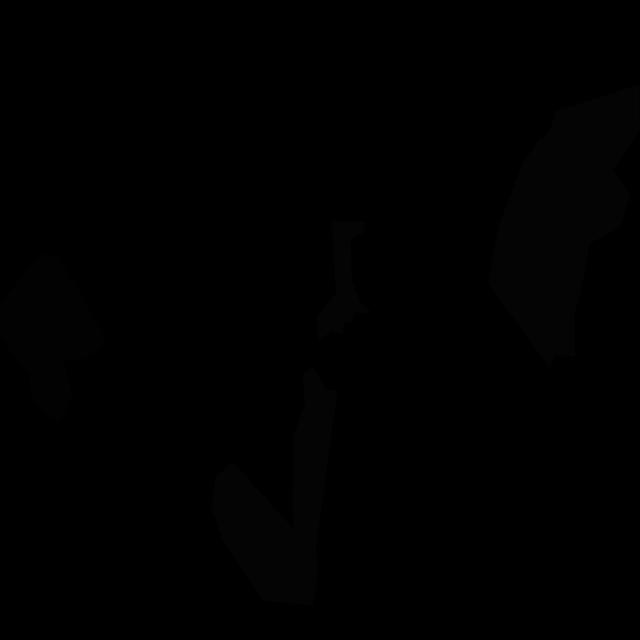cardboard: (0, 253, 105, 423)
soft_plastic: (488, 131, 630, 369), (212, 367, 338, 605), (542, 84, 640, 170), (317, 220, 372, 340)
